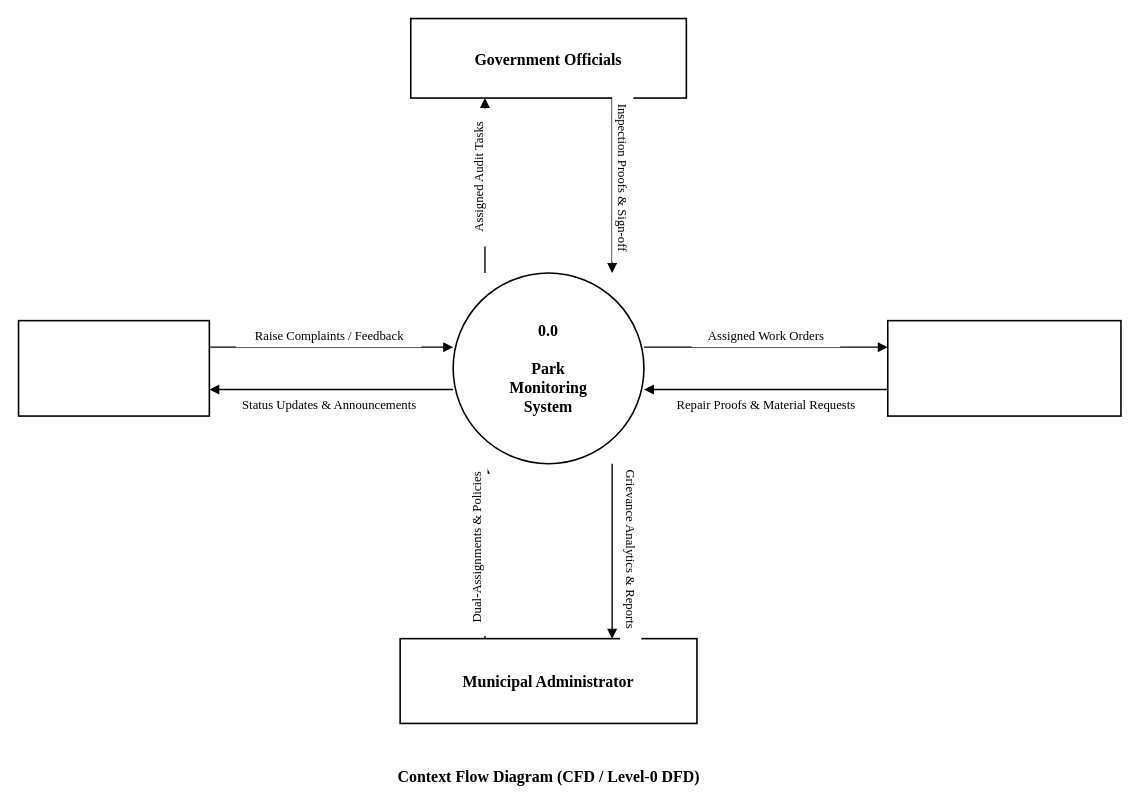
Some shapes in this 1141 by 811 pixel diagram are drawn without their labels. Each missing label, with the centre of its shape:
"Citizens" belongs at (113,367).
"Maintenance Contractors" belongs at (1003,367).
